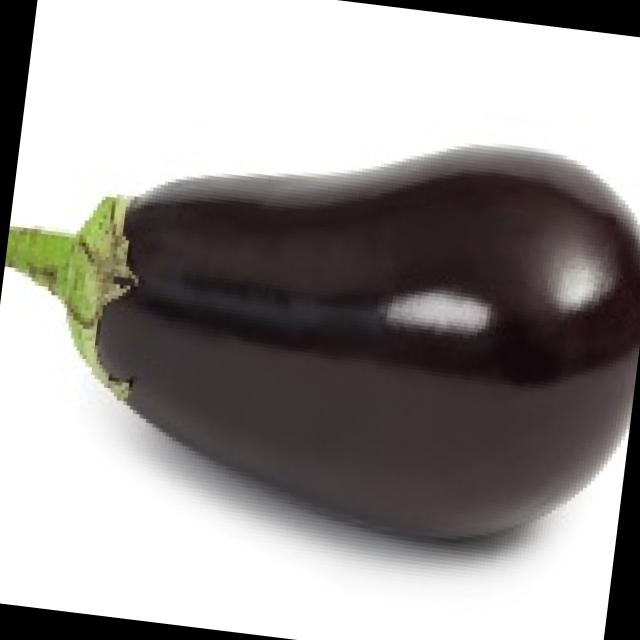eggplant: (36, 85, 640, 569)
